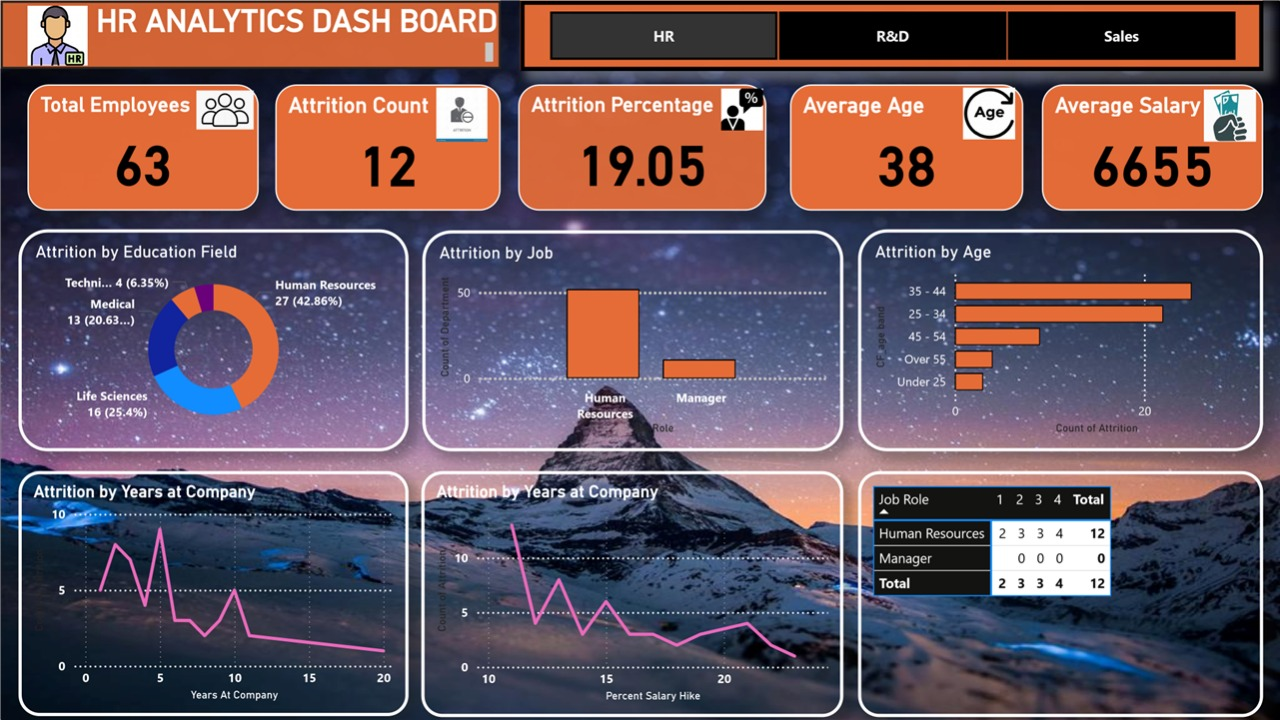

What the dashboard file says about the page in this screenshot:
{"tool":"powerbi","page":{"name":"Page 2","canvas":[1280,720],"ordinal":0},"visuals":[{"type":"card","title":"Total Employees","fields":{"Values":["Sum(Table1.Employee Count)"]},"box":[26.6,83.5,231.6,126.6],"z":0},{"type":"card","title":"Attrition Count","fields":{"Values":["Sum(Table1.CF_attrition count)"]},"box":[274.7,83.5,225.3,126.6],"z":1000},{"type":"card","title":"Attrition Percentage","fields":{"Values":["Table1.Attrition_per"]},"box":[517.7,83.5,248.1,126.6],"z":2000},{"type":"card","title":"Average Age","fields":{"Values":["Avg(Table1.Age)"]},"box":[789.9,83.5,232.9,126.6],"z":3000},{"type":"card","title":"Average Salary","fields":{"Values":["Avg(Table1.Monthly Income)"]},"box":[1041.8,83.5,221.5,126.6],"z":4000},{"type":"lineChart","title":"Attrition by Years at Company","fields":{"Category":["Table1.Years At Company"],"Y":["CountNonNull(Table1.Attrition)"]},"box":[17.7,470.9,389.9,245.6],"z":5000},{"type":"pivotTable","title":"Attrition by Salary Hike","fields":{"Rows":["Table1.Job Role"],"Columns":["Table1.Job Satisfaction"],"Values":["Sum(Table1.CF_attrition count)"]},"box":[858.2,470.9,405.1,239.2],"z":6000},{"type":"slicer","fields":{"Values":["Table1.Department"]},"box":[520.3,0,743,69.6],"z":7000},{"type":"donutChart","title":"Attrition by Education Field","fields":{"Category":["Table1.Education Field"],"Y":["CountNonNull(Table1.Attrition)"]},"box":[17.7,229.1,389.9,221.5],"z":8000},{"type":"barChart","title":"Attrition by Age","fields":{"Y":["CountNonNull(Table1.Attrition)"],"Category":["Table1.CF_age band"]},"box":[858.2,229.1,405.1,221.5],"z":9000},{"type":"columnChart","title":"Attrition by Job","fields":{"Category":["Table1.Job Role"],"Y":["CountNonNull(Table1.Department)"]},"box":[421.5,230.4,421.5,220.3],"z":10000},{"type":"lineChart","title":"Attrition by Years at Company","fields":{"Y":["CountNonNull(Table1.Attrition)"],"Category":["Table1.Percent Salary Hike"]},"box":[421.5,470.9,421.5,249.4],"z":11000},{"type":"textbox","title":"  HR ANALYTICS DASH BOARD","box":[0,0,500,68.4],"z":12000},{"type":"image","box":[0,0,113.9,69.6],"z":13000},{"type":"image","box":[190.6,78.4,67.6,62.7],"z":14000},{"type":"image","box":[311.4,82.3,300,63.3],"z":15000},{"type":"image","box":[873.4,82.3,231.6,62],"z":16000},{"type":"image","box":[1197.5,83.5,65.8,62],"z":17000},{"type":"image","box":[591.2,83.2,300.4,51.9],"z":18000}]}

Visuals, with their boxes in screenshot pixels (x1, y1, x2, y2), scaled from the page's 1280x720 canvas onto the 1280x720 screenshot:
"Total Employees" card: (27,84,258,210)
"Attrition Count" card: (275,84,500,210)
"Attrition Percentage" card: (518,84,766,210)
"Average Age" card: (790,84,1023,210)
"Average Salary" card: (1042,84,1263,210)
"Attrition by Years at Company" lineChart: (18,471,408,716)
"Attrition by Salary Hike" pivotTable: (858,471,1263,710)
slicer - Table1.Department: (520,0,1263,70)
"Attrition by Education Field" donutChart: (18,229,408,451)
"Attrition by Age" barChart: (858,229,1263,451)
"Attrition by Job" columnChart: (422,230,843,451)
"Attrition by Years at Company" lineChart: (422,471,843,719)
"  HR ANALYTICS DASH BOARD" textbox: (0,0,500,68)
image: (0,0,114,70)
image: (191,78,258,141)
image: (311,82,611,146)
image: (873,82,1105,144)
image: (1198,84,1263,146)
image: (591,83,892,135)
